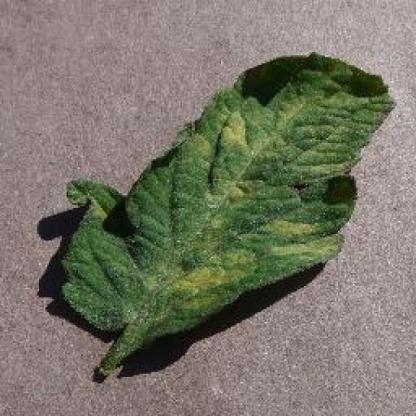Tomato_Leaf_Mold: (60, 54, 395, 333)
